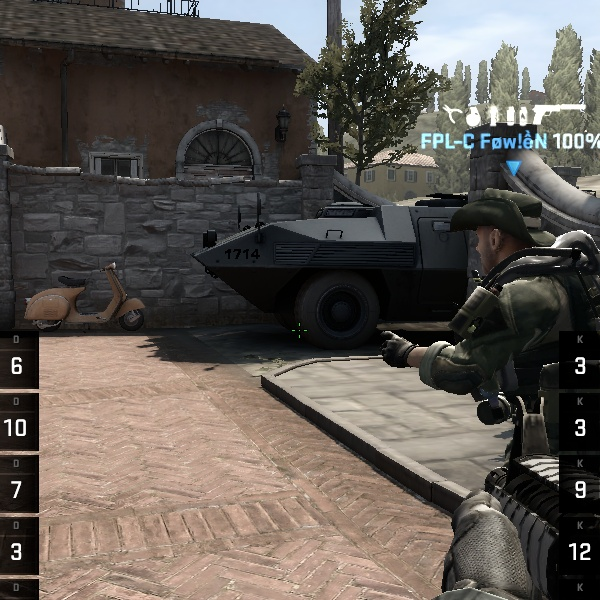ct_body: (405, 172, 589, 599)
ct_head: (438, 183, 554, 293)
